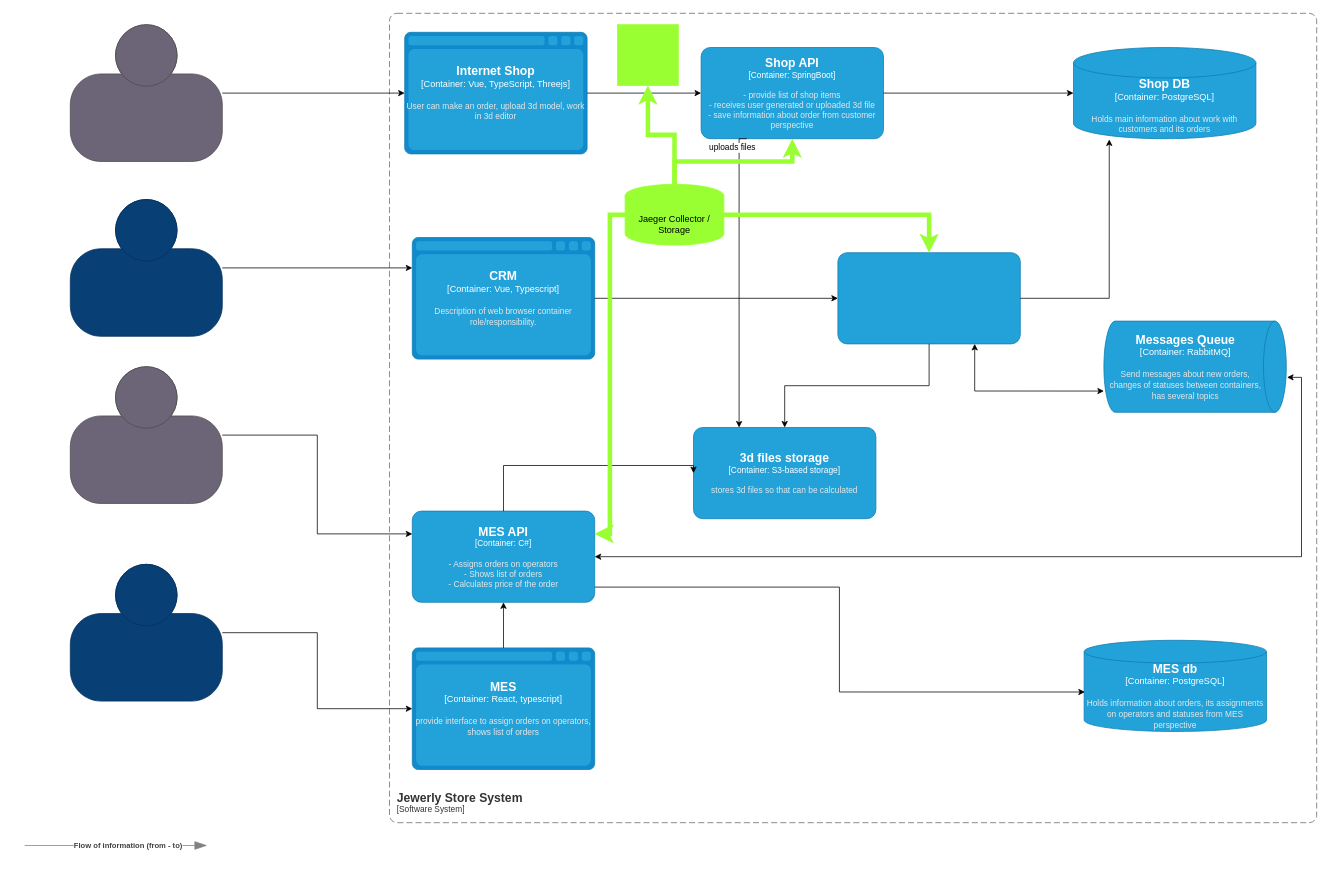
This 1330x871 diagram has some shape labels left out. The centre of each missing label's shape, as x and y in pixels:
API user [Person] Description of external person.: [146,435]
CRM API [Container: SpringBoot] Description of container role/responsibility.: [928,298]
Customer [Person] Description of external person.: [146,93]
Jaeger UI: [647,55]
Operator [Person] Takes order in work, manufactures jewerly: [146,632]
Seller [Person] Operates with order, confirms manufacturing for the user: [146,267]
